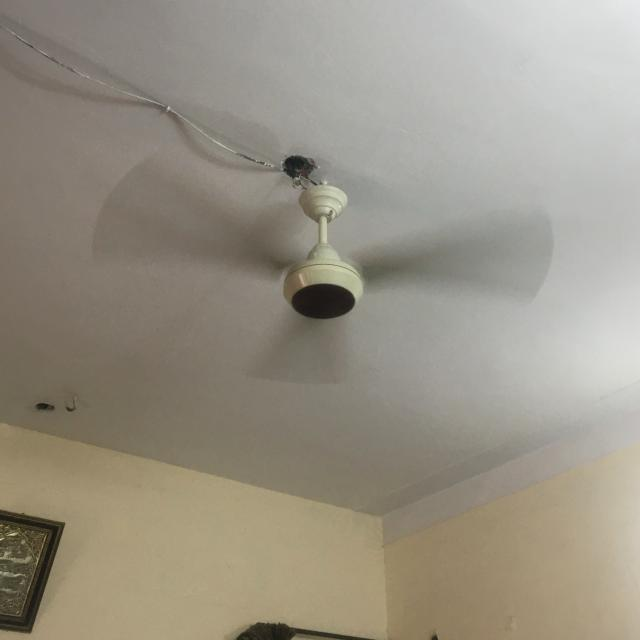on: (82, 146, 563, 396)
